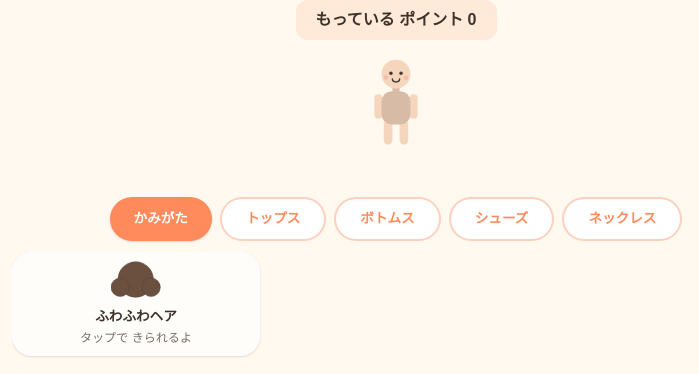
only shows the items of the selected slot
The width and height of the screenshot is (699, 374).
Expected: the text "ふわふわヘア" is shown, [95,308,177,326]
Expected: the text "パーカー" is not shown
Click the button "トップス".
click(273, 219)  # box [220,197,326,241]
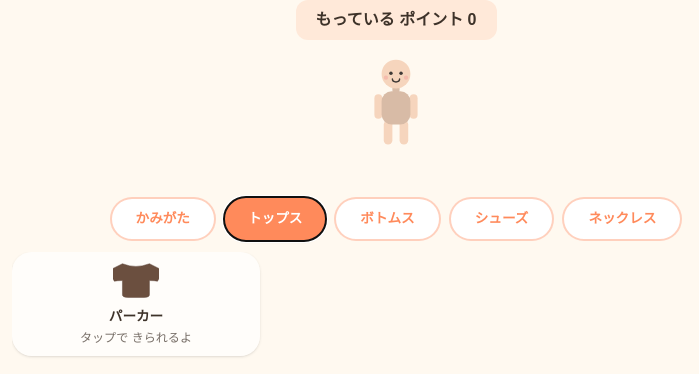
Expected: the text "パーカー" is shown, [109,308,163,326]
Expected: the button "ふわふわヘア" is gone
